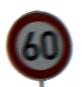Speed Limit -60-: (4, 9, 71, 80)
